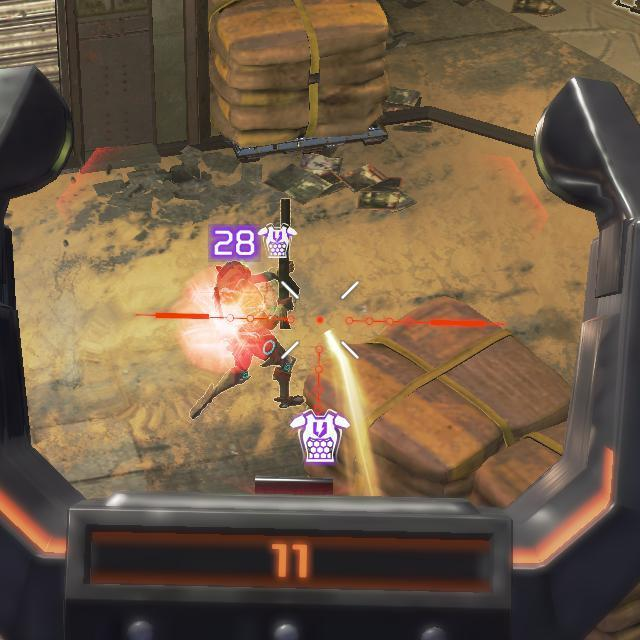avatar: (185, 259, 307, 423)
